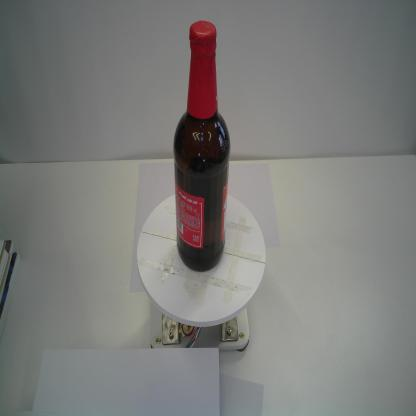Alcohol: (169, 17, 232, 274)
